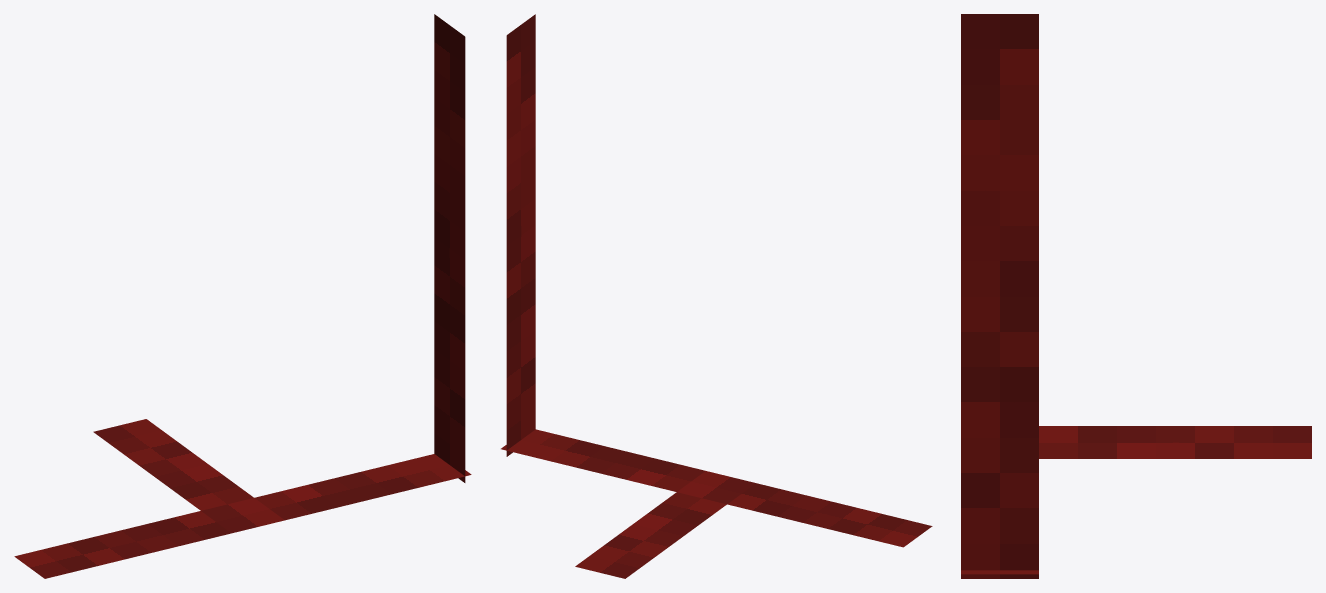
Rendered from dust_2101.gltf.
The picture shows the model from 3 angles, left to right: view 1: azimuth 30°, elevation 25°; view 2: azimuth 150°, elevation 25°; view 3: azimuth 270°, elevation 25°; orthographic projection. The views are drawn at different scales.
Visible parts, largest first — view 1: dust_2101; view 2: dust_2101; view 3: dust_2101.
Boxes of the visible parts, x1=… form: dust_2101: x1=14, y1=14, x2=471, y2=578; dust_2101: x1=501, y1=14, x2=932, y2=578; dust_2101: x1=961, y1=14, x2=1311, y2=578.
Bounding box in the file's own units: 1 × 1 × 0.5625.
Materials: 1 (1 with a texture image).
